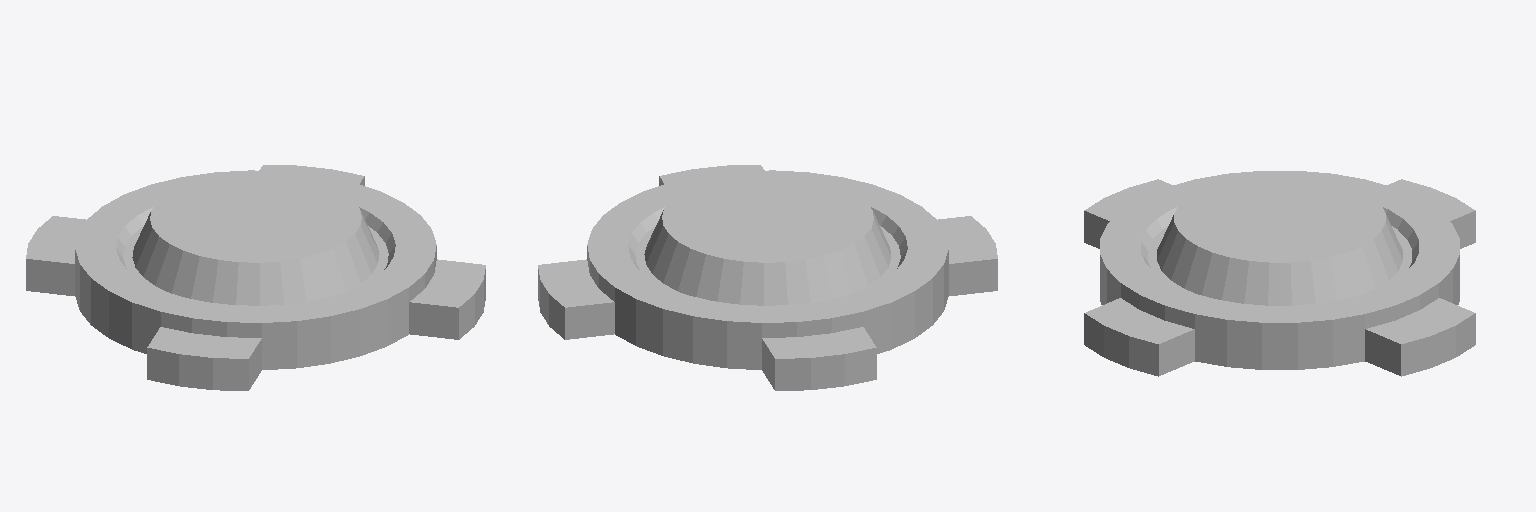
The model's file is Mine.obj.
3 renders of one model, left to right at view 1: azimuth 30°, elevation 25°; view 2: azimuth 150°, elevation 25°; view 3: azimuth 270°, elevation 25°, orthographic.
Visible parts, largest first — view 1: Circle; view 2: Circle; view 3: Circle.
Part boxes in pixels (x1,y1,x2,y2): Circle: (26,165,485,390); Circle: (538,165,997,390); Circle: (1084,171,1475,376).
Bounding box in the file's own units: 2.16 × 0.4645 × 2.16.